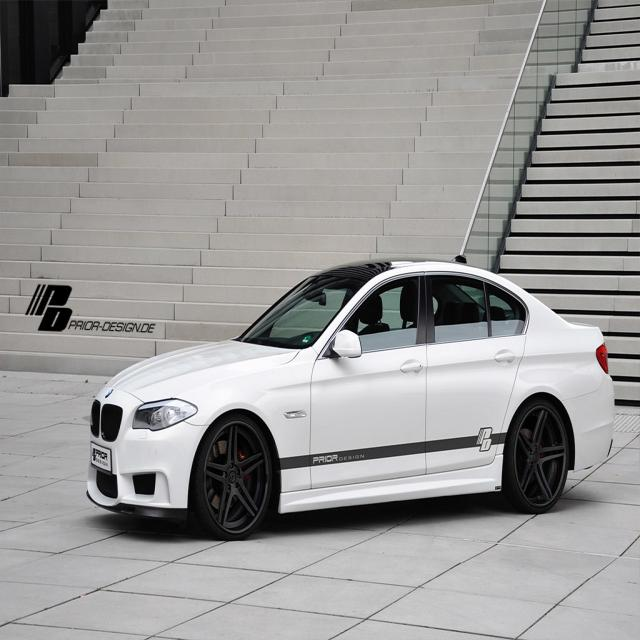car: (84, 255, 620, 539)
